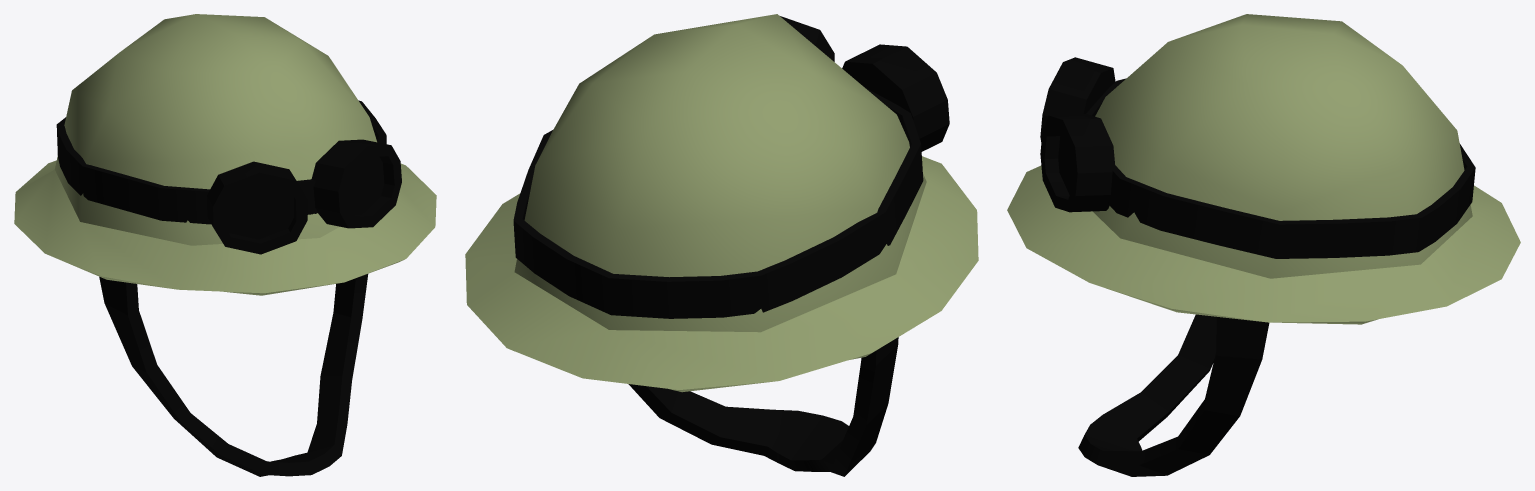
Rendered from Speedy_Soldier_Helmet_Type_1.fbx.
3 renders of one model, left to right at view 1: azimuth 30°, elevation 25°; view 2: azimuth 150°, elevation 25°; view 3: azimuth 270°, elevation 25°, orthographic. The views are drawn at different scales.
Parts seen in each view (by area): view 1: Speedy_Soldier_Helmet_Type_1; view 2: Speedy_Soldier_Helmet_Type_1; view 3: Speedy_Soldier_Helmet_Type_1.
Part boxes in pixels (box(x1,y1,x2,y2)): Speedy_Soldier_Helmet_Type_1: box(14, 14, 436, 476); Speedy_Soldier_Helmet_Type_1: box(465, 14, 978, 476); Speedy_Soldier_Helmet_Type_1: box(1007, 14, 1520, 476).
Bounding box in the file's own units: 32.83 × 34.9 × 36.77.
